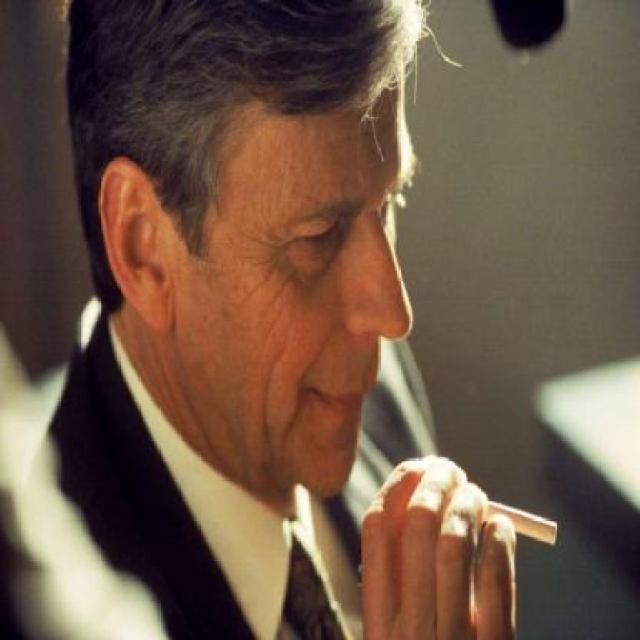cigarette: (474, 492, 558, 550)
